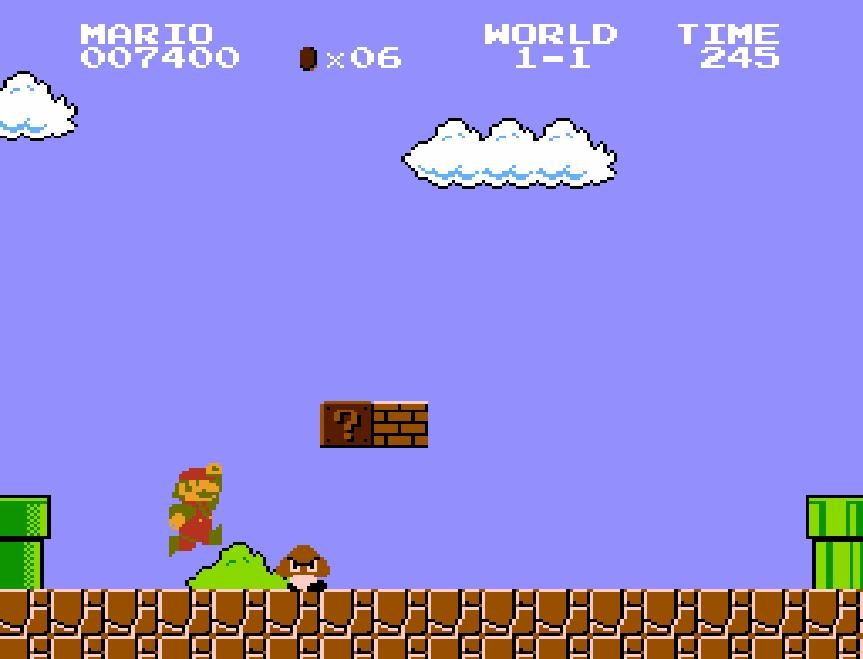big_mario: (166, 461, 224, 559)
